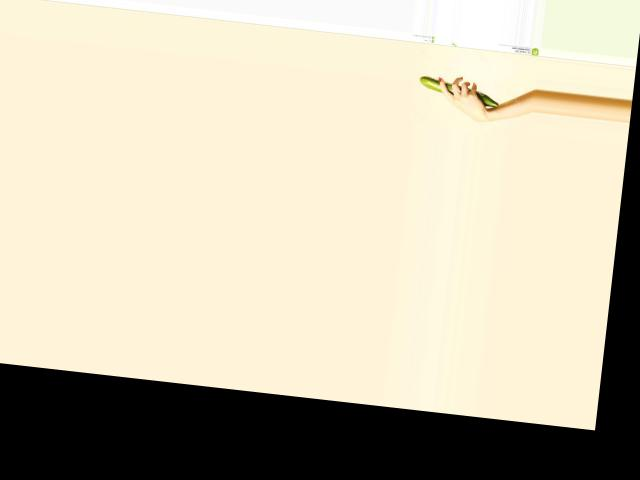cucumber: (417, 74, 501, 107)
